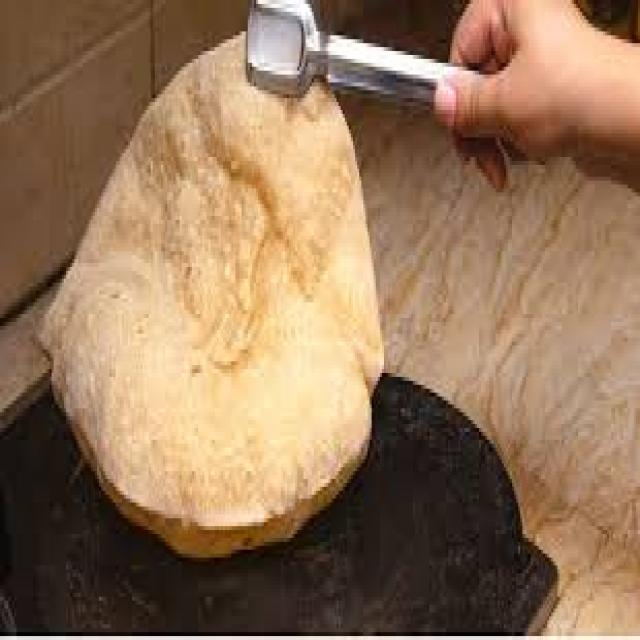DOSA: (35, 31, 380, 534)
